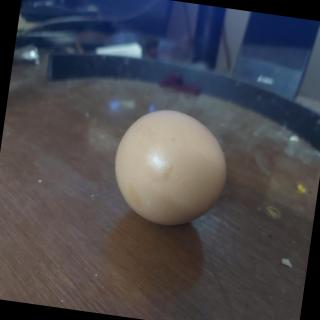Telur: (107, 103, 239, 236)
